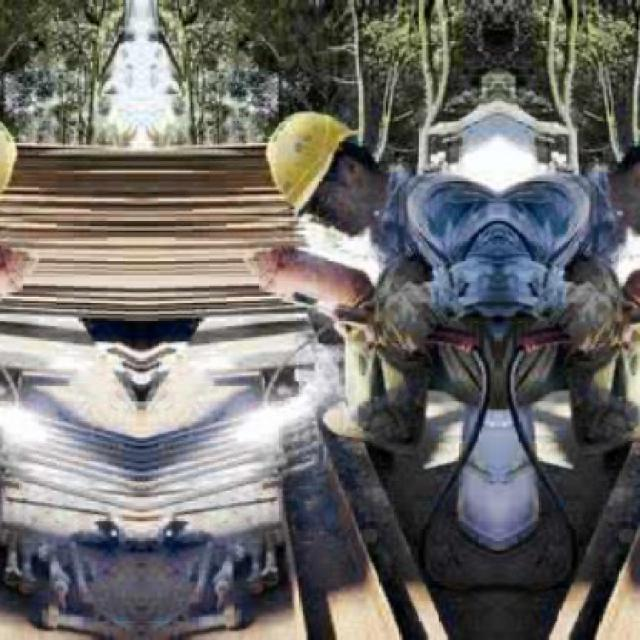helmet: (252, 94, 382, 218), (1, 92, 32, 218)
